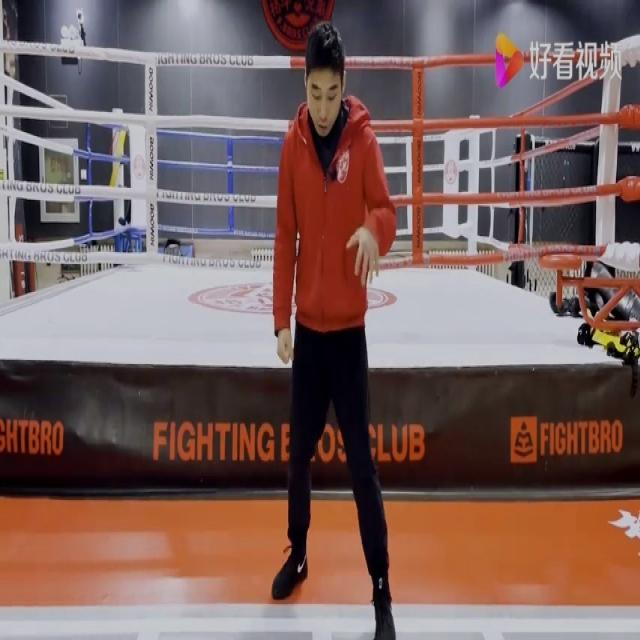non-fight: (266, 8, 399, 639)
